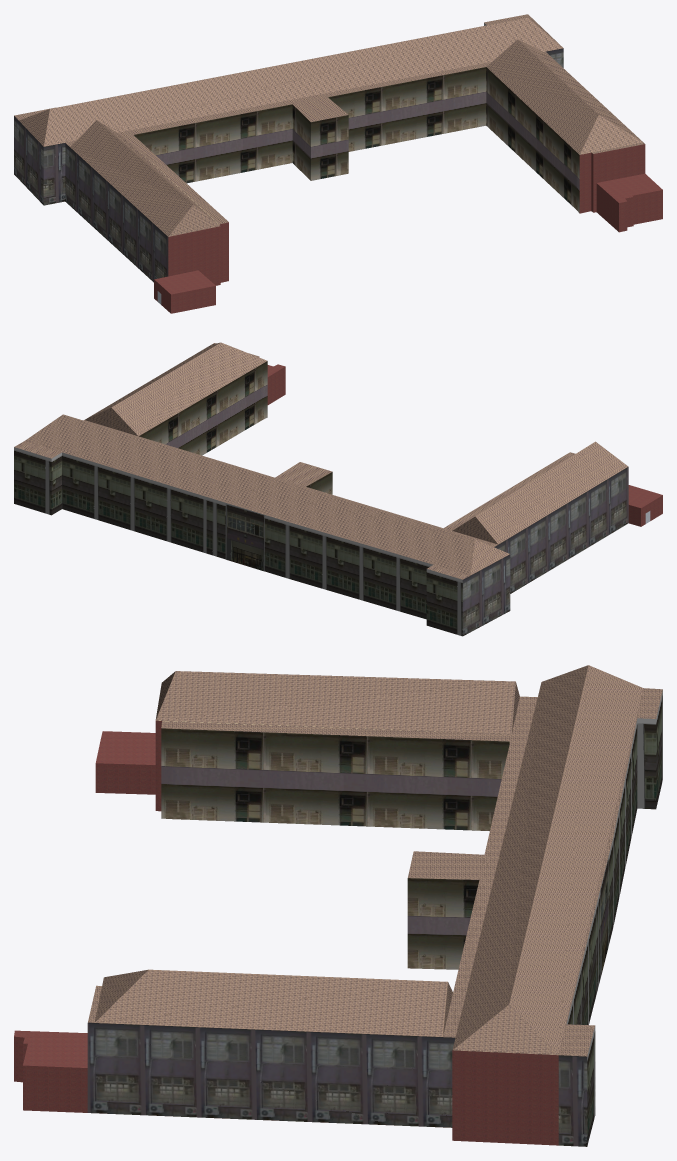
The model's file is hssg.gltf.
3 views of the same model, one above another, from view 1: azimuth 30°, elevation 25°; view 2: azimuth 150°, elevation 25°; view 3: azimuth 270°, elevation 25° (orthographic). The views are drawn at different scales.
Visible parts, largest first — view 1: hssg.kmz#1; view 2: hssg.kmz#1; view 3: hssg.kmz#1.
Part boxes in pixels (x1,y1,x2,y2): hssg.kmz#1: (14, 14, 662, 313); hssg.kmz#1: (14, 342, 662, 636); hssg.kmz#1: (14, 665, 662, 1146).
Size of the model in its own units: 100 by 15.1 by 71.29.
Materials: 10 (8 with a texture image).
